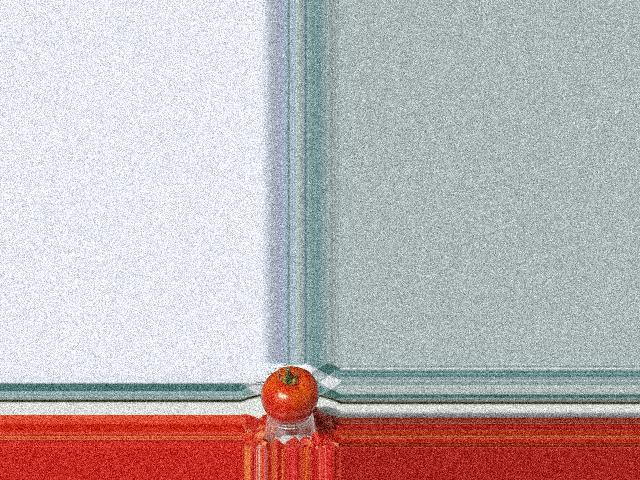tomato: (259, 366, 318, 422)
